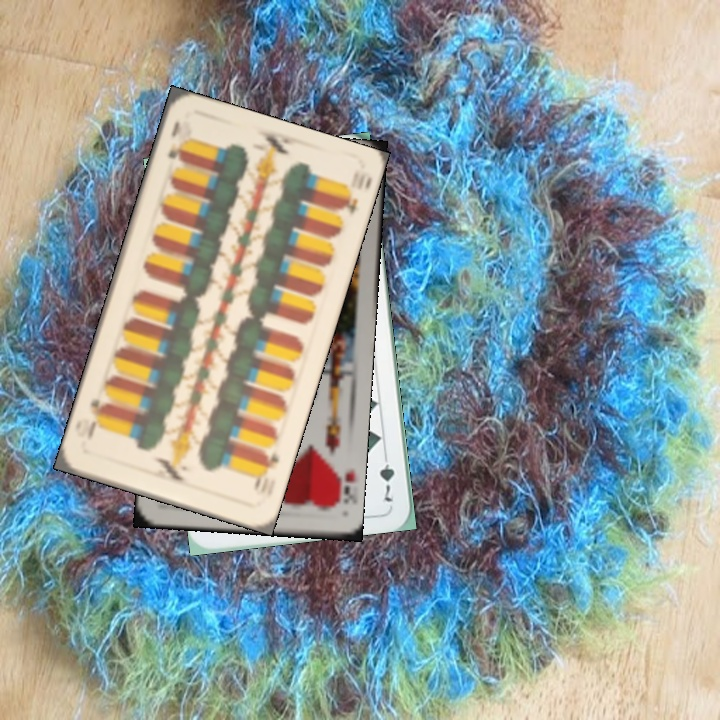E10: (250, 446, 281, 494), (163, 116, 184, 165)
G7: (375, 447, 397, 505)
HK: (328, 461, 356, 511)
